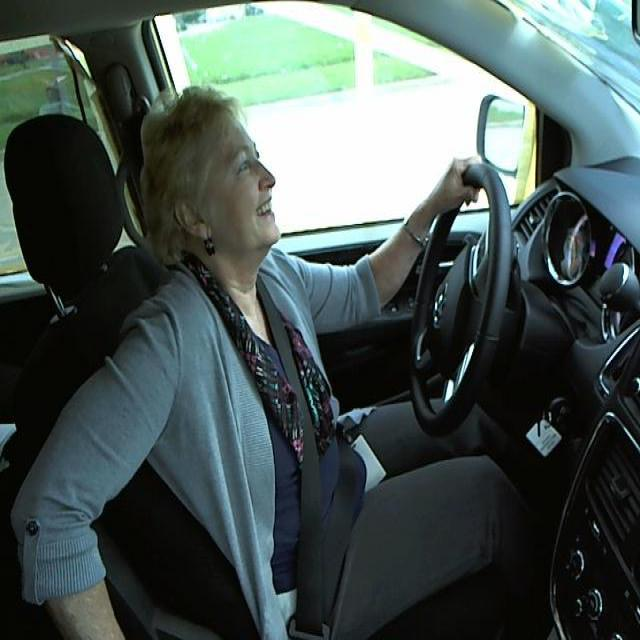seatbelt: (253, 280, 351, 615)
